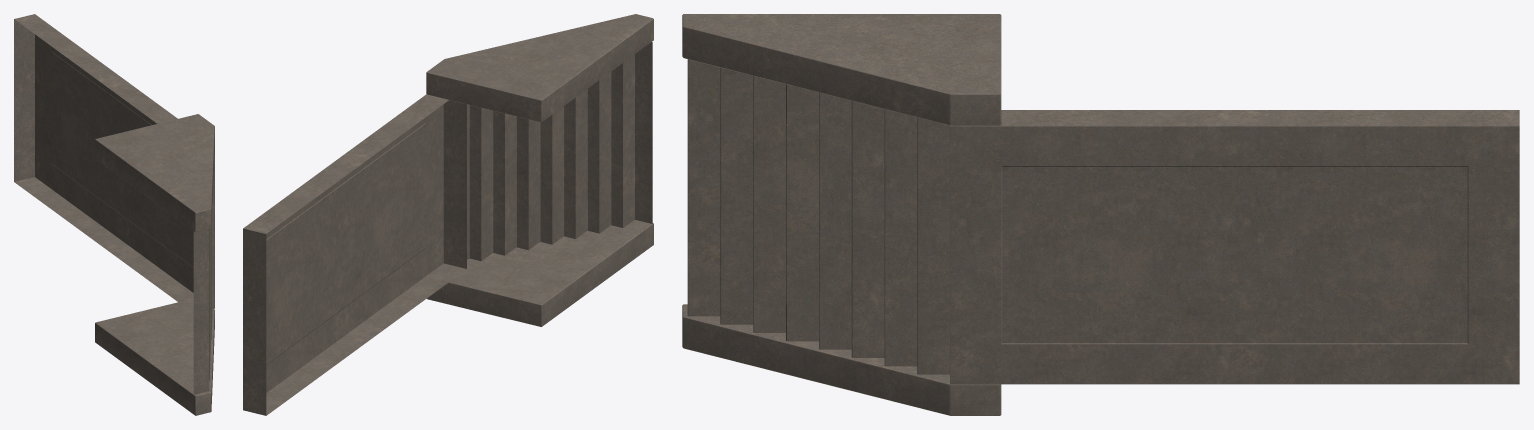
The model's file is cP_Pathway04_Stairs.dae.
The picture shows the model from 3 angles, left to right: view 1: azimuth 30°, elevation 25°; view 2: azimuth 150°, elevation 25°; view 3: azimuth 270°, elevation 25°; orthographic projection. The views are drawn at different scales.
Parts seen in each view (by area): view 1: cP_Pathway04_Stairs.001; view 2: cP_Pathway04_Stairs.001; view 3: cP_Pathway04_Stairs.001.
Part boxes in pixels (left/top/right/bottom): cP_Pathway04_Stairs.001: left=14, top=14, right=214, bottom=415; cP_Pathway04_Stairs.001: left=243, top=14, right=653, bottom=415; cP_Pathway04_Stairs.001: left=682, top=14, right=1519, bottom=415.
Bounding box in the file's own units: 2.67 × 11.76 × 5.
